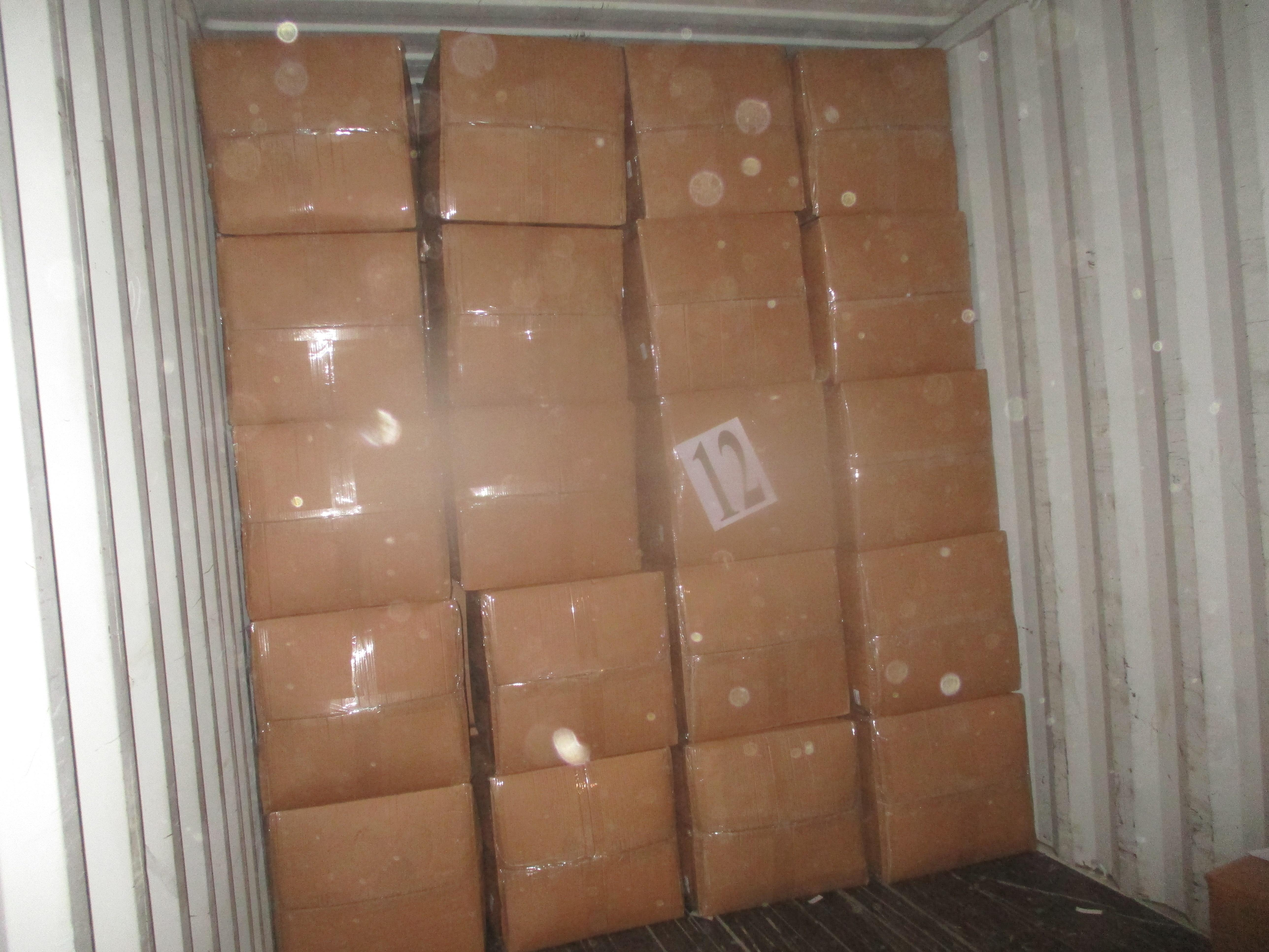carton: (250, 601, 470, 812), (191, 32, 415, 234), (235, 415, 453, 619), (467, 572, 677, 774), (418, 30, 626, 226), (217, 231, 428, 424), (488, 750, 684, 952), (424, 223, 629, 405), (635, 382, 836, 567), (680, 719, 867, 916), (446, 400, 640, 589), (266, 786, 485, 952), (667, 550, 851, 742), (622, 214, 816, 395), (837, 532, 1020, 715), (859, 695, 1034, 882), (624, 41, 805, 220), (825, 369, 999, 549), (791, 46, 957, 228), (801, 210, 975, 382)
